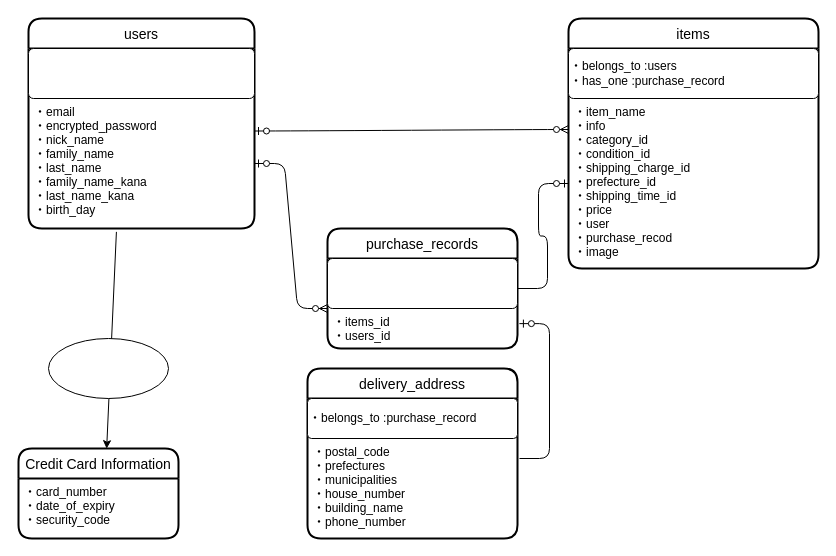
This 836x556 diagram has some shape labels left out. The shapes that lost their labels are listed below. From the top down, each one's centre as x and y in pixels, then its label:
At [141,73]: "・has_many :items ・has_many :comments ・has_many : purchase_records".
At [422,283]: "・has_one :delivery_address ・belongs_to :item ・belongs_to :user".
At [108,368]: "外部管理".
